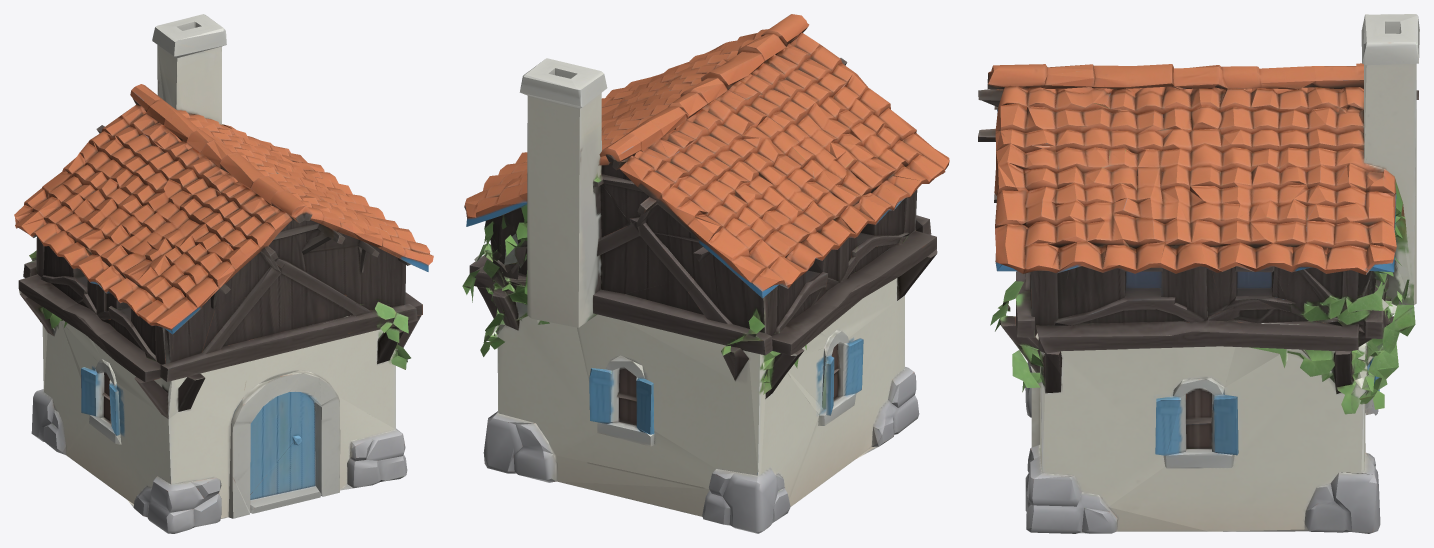
Rendered from house_1.glb.
3 renders of one model, left to right at view 1: azimuth 30°, elevation 25°; view 2: azimuth 150°, elevation 25°; view 3: azimuth 270°, elevation 25°, orthographic. The views are drawn at different scales.
Visible parts, largest first — view 1: house_1; view 2: house_1; view 3: house_1.
Part boxes in pixels (x1,y1,x2,y2): house_1: [14, 14, 433, 533]; house_1: [462, 14, 949, 533]; house_1: [978, 14, 1419, 533].
Size of the model in its own units: 5.71 by 7 by 6.05.
1 material, 1 textured.
